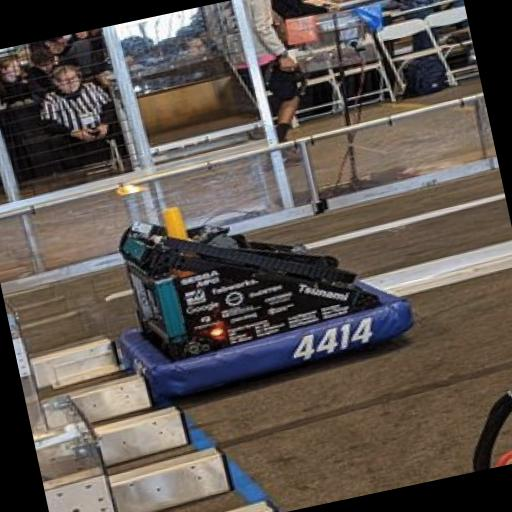robot: (89, 154, 427, 410)
